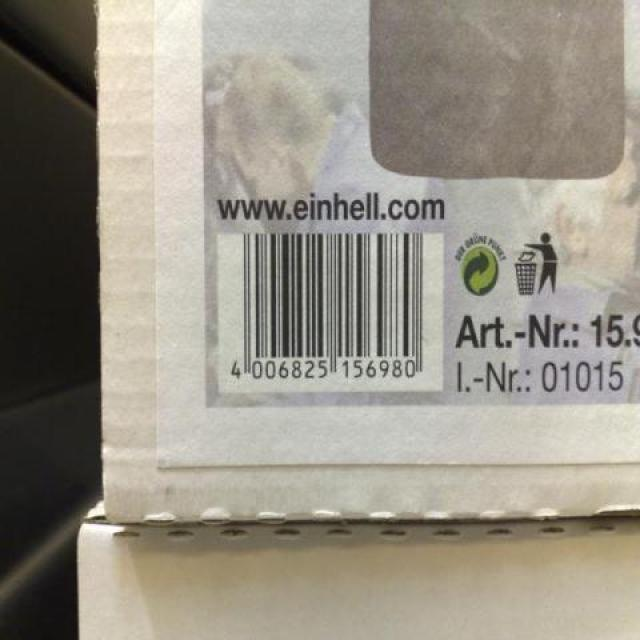Barcode: (217, 233, 444, 391)
